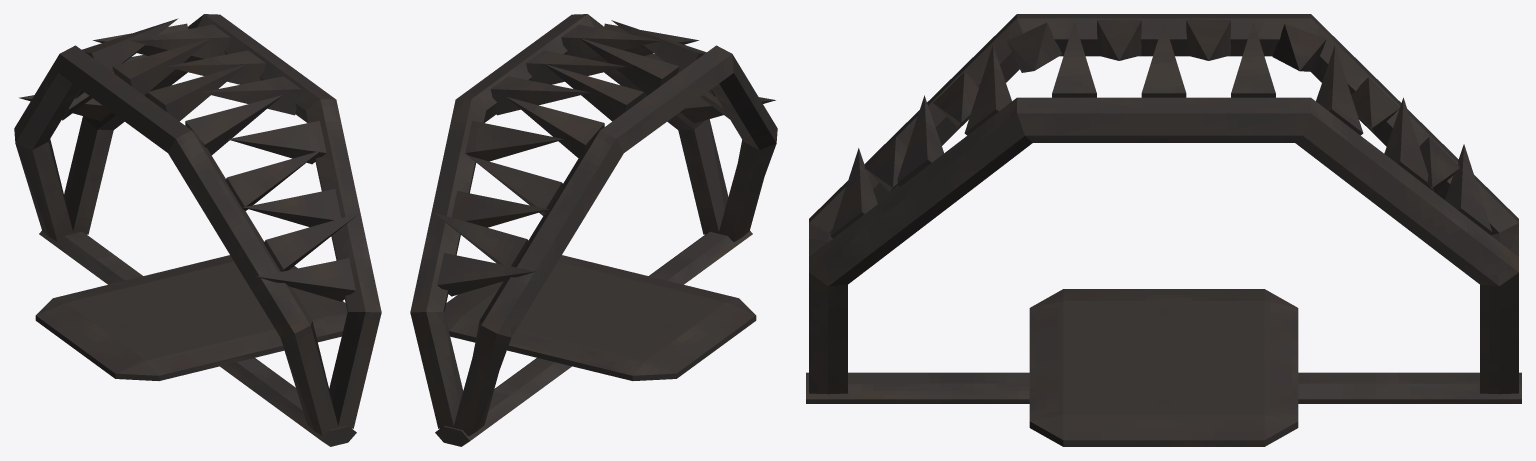
The model's file is beartrap_closed.glb.
The picture shows the model from 3 angles, left to right: view 1: azimuth 30°, elevation 25°; view 2: azimuth 150°, elevation 25°; view 3: azimuth 270°, elevation 25°; orthographic projection. The views are drawn at different scales.
Parts seen in each view (by area): view 1: torus, pyramid (×14), beveled_cuboid, cylinder; view 2: torus, pyramid (×14), beveled_cuboid, cylinder; view 3: torus, beveled_cuboid, pyramid (×17), cylinder.
Boxes of the visible parts, bbox=[...] form: torus: bbox=[14, 14, 381, 436]; pyramid (×14): bbox=[19, 18, 359, 301]; beveled_cuboid: bbox=[35, 255, 347, 380]; cylinder: bbox=[39, 231, 356, 446]; torus: bbox=[410, 14, 777, 436]; pyramid (×14): bbox=[433, 20, 775, 296]; beveled_cuboid: bbox=[444, 255, 756, 380]; cylinder: bbox=[435, 231, 752, 446]; torus: bbox=[809, 14, 1518, 394]; beveled_cuboid: bbox=[1029, 289, 1298, 446]; pyramid (×17): bbox=[830, 20, 1492, 238]; cylinder: bbox=[806, 372, 1521, 403].
Size of the model in its own units: 0.5 by 0.5512 by 1.
Materials: 1 (1 with a texture image).
